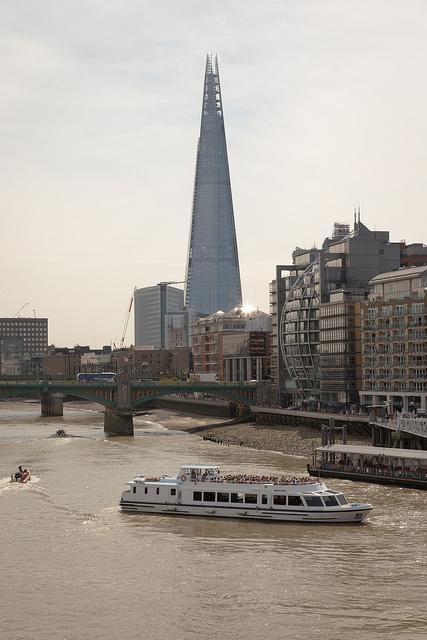bus: (76, 372, 117, 382), (187, 372, 220, 382)
